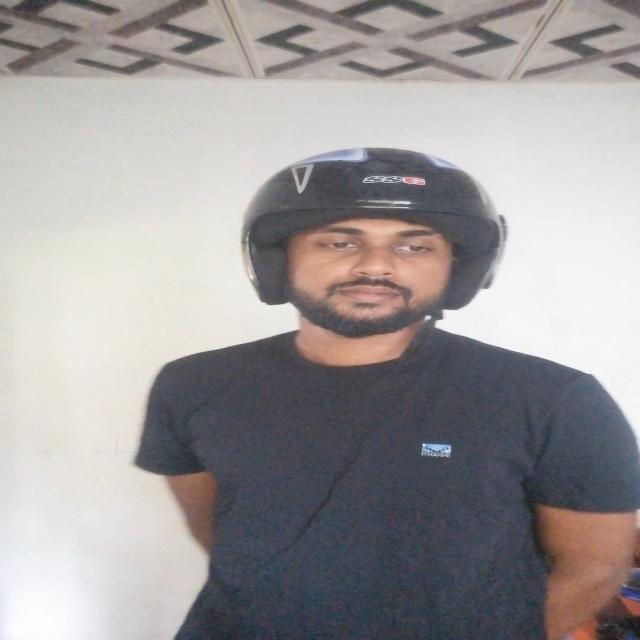Helmet_Wearer: (202, 135, 545, 377)
Person: (131, 151, 628, 640)
